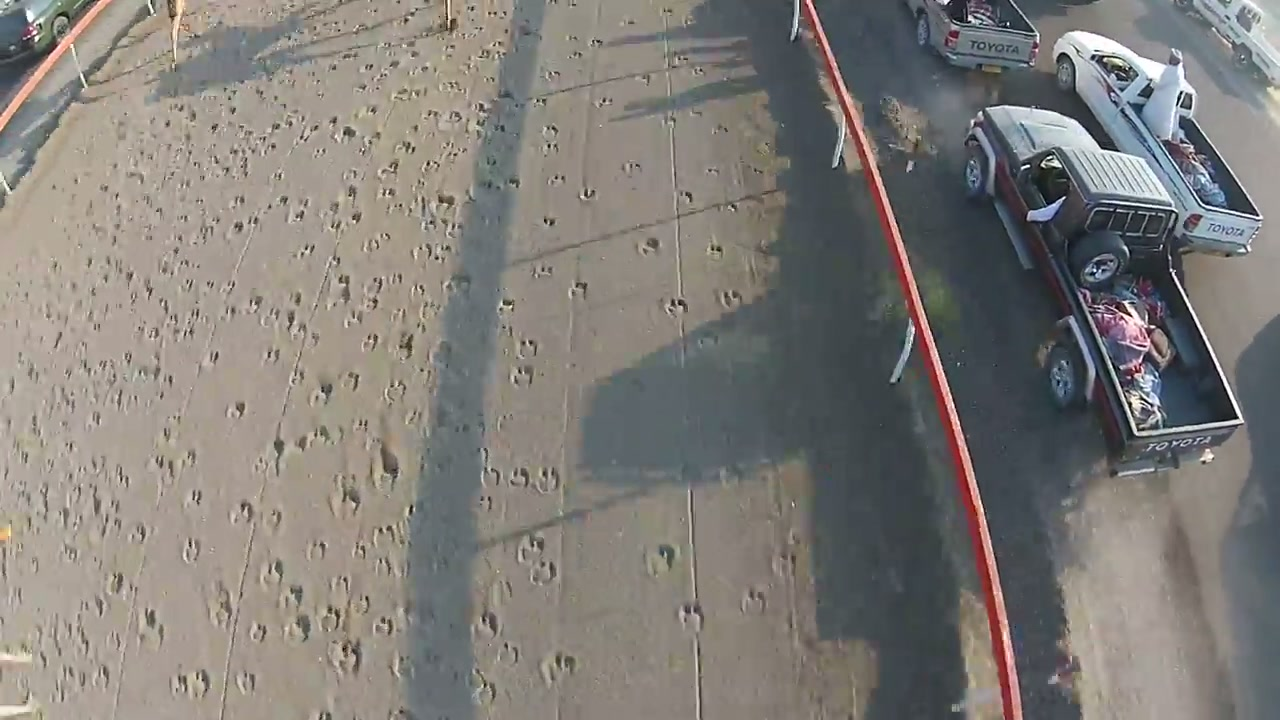animal_footprint: (195, 42, 579, 695), (55, 373, 284, 700)
